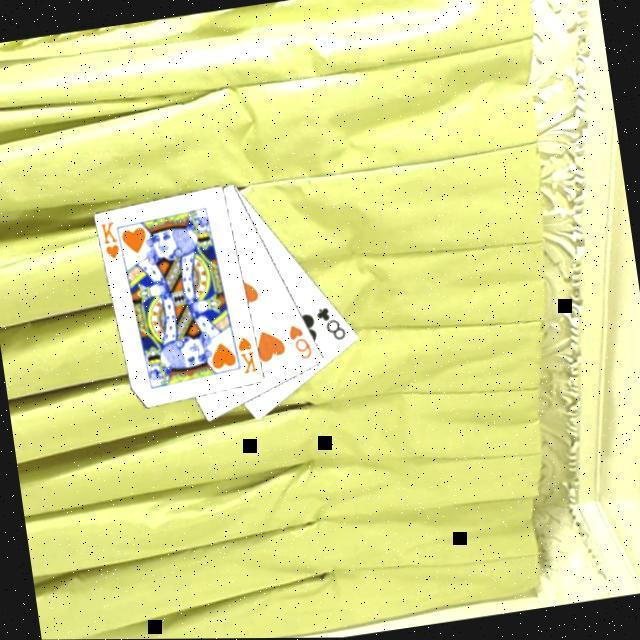6H: (286, 317, 318, 362)
8C: (314, 300, 352, 344)
KH: (235, 331, 263, 376), (100, 215, 126, 261)
